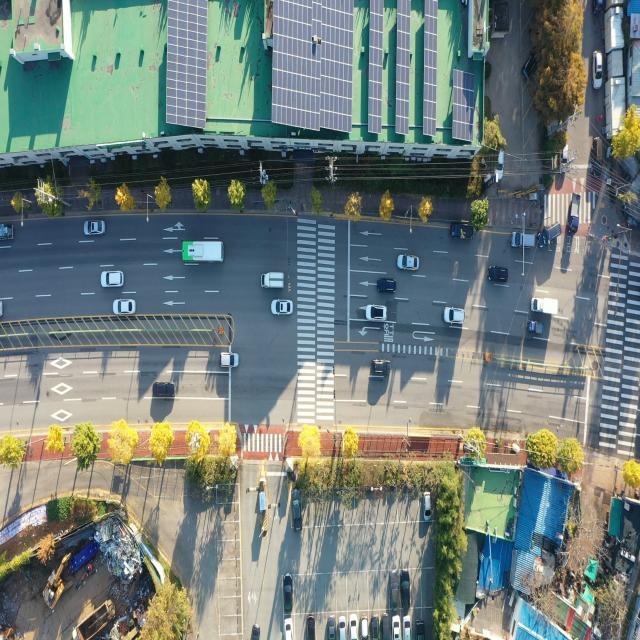car: (539, 220, 561, 254), (523, 49, 541, 82), (400, 570, 411, 611), (290, 491, 302, 528), (592, 138, 604, 175), (510, 231, 535, 248), (102, 271, 125, 289), (153, 380, 175, 398), (388, 570, 398, 609), (488, 264, 508, 283), (445, 308, 466, 326), (400, 253, 420, 270), (372, 359, 392, 376), (494, 148, 504, 182), (365, 306, 386, 322), (113, 300, 135, 315), (86, 219, 106, 235), (273, 300, 293, 316), (219, 352, 238, 368), (284, 575, 292, 613), (595, 53, 603, 90), (378, 279, 397, 294), (423, 491, 431, 521), (416, 617, 426, 640), (371, 615, 380, 640), (382, 608, 389, 640), (561, 145, 569, 172), (306, 617, 315, 640), (284, 618, 293, 640), (350, 616, 358, 640), (392, 617, 400, 640), (339, 617, 347, 640), (251, 622, 261, 640), (360, 618, 368, 640)
large_bus: (181, 238, 225, 264)
small_truck: (567, 192, 582, 238), (531, 295, 558, 314), (262, 271, 288, 290), (448, 223, 474, 240), (0, 221, 14, 241), (527, 320, 544, 336)
